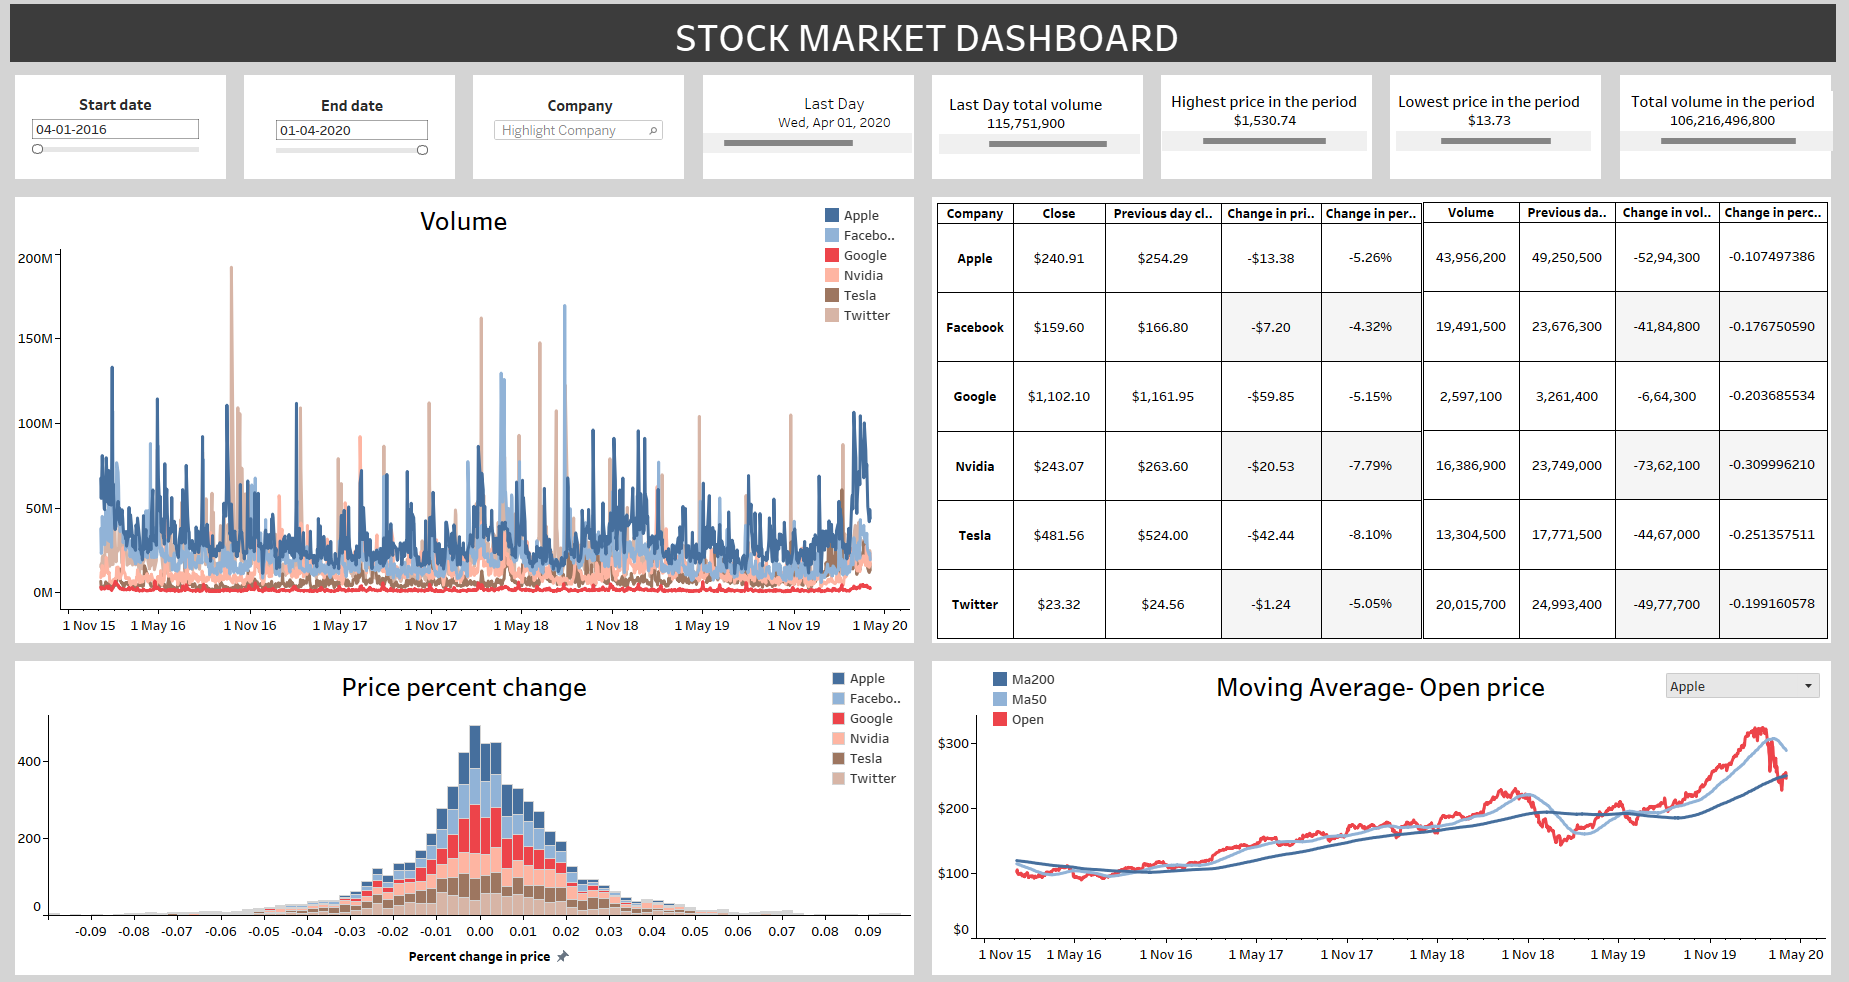

The page's visual inventory and layout, read from the dashboard file:
{"tool":"tableau","page":{"name":"Dashboard 1","canvas":[1850,1000],"ordinal":0},"visuals":[{"type":"blank","box":[8,8,1834,66]},{"type":"worksheet","title":"Title","mark":"Automatic","box":[23,16,1814,76]},{"type":"blank","box":[8,74,229.2,122]},{"type":"blank","box":[237.2,74,229.3,122]},{"type":"blank","box":[466.5,74,229.3,122]},{"type":"blank","box":[695.7,74,229.3,122]},{"type":"blank","box":[925,74,229.2,122]},{"type":"blank","box":[1154.2,74,229.3,122]},{"type":"blank","box":[1383.5,74,229.3,122]},{"type":"blank","box":[1612.7,74,229.3,122]},{"type":"worksheet","title":"Highest price in the period ","mark":"Automatic","box":[1164,99,205,97]},{"type":"worksheet","title":"Lowest price in the period","mark":"Automatic","box":[1398,99,195,87]},{"type":"worksheet","title":"Total volume in the period","mark":"Automatic","box":[1622,99,213,98]},{"type":"worksheet","title":"Last Day","mark":"Automatic","box":[705,101,209,89]},{"type":"parameter","param":"[Parameters].[Parameter 1]","box":[31,102,173,76]},{"type":"worksheet","title":"Last day total volume","mark":"Automatic","box":[941,102,201,95]},{"type":"parameter","param":"[Parameters].[Parameter 2]","box":[275,103,158,76]},{"type":"highlighter","title":"Volume","param":"[federated.145bf9v1kpuh8n13qrpkv1qncen8].[none:Table Name:nk]","box":[493,103,175,76]},{"type":"blank","box":[8,196,917,464]},{"type":"blank","box":[925,196,917,464]},{"type":"worksheet","title":"Volume","mark":"Automatic","rows":["Volume"],"cols":["Date"],"box":[19,207,893,440]},{"type":"worksheet","title":"Detailed Volume Table","mark":"Automatic","rows":["Table Name","Volume","Previous day volume","Change in volume"],"box":[1425,210,405,437]},{"type":"worksheet","title":"Detailed price Table","mark":"Automatic","rows":["Table Name","Close","Previous day close price","Change in price"],"box":[939,211,485,436]},{"type":"legend","title":"Volume","param":"[federated.145bf9v1kpuh8n13qrpkv1qncen8].[none:Table Name:nk]","box":[824,213,83,139]},{"type":"blank","box":[8,660,917,332]},{"type":"blank","box":[925,660,917,332]},{"type":"worksheet","title":"Price percent change","mark":"Automatic","rows":["Percent change in price"],"cols":["Percent change in price (bin)"],"box":[19,673,894,307]},{"type":"worksheet","title":"Moving Average- Open price","mark":"Automatic","cols":["Date"],"box":[937,673,891,303]},{"type":"legend","title":"Price percent change","param":"[federated.145bf9v1kpuh8n13qrpkv1qncen8].[none:Table Name:nk]","box":[830,676,79,125]},{"type":"legend","title":"Moving Average- Open price","param":"[federated.145bf9v1kpuh8n13qrpkv1qncen8].[:Measure Names]","box":[992,677,78,64]},{"type":"filter","title":"Moving Average- Open price","param":"[federated.145bf9v1kpuh8n13qrpkv1qncen8].[none:Table Name:nk]","box":[1665,678,160,41]}]}

Visuals, with their boxes in screenshot pixels (x1, y1, x2, y2), scaled from the page's 1850x1000 canvas onto the 1849x982 screenshot:
blank: <box>8,8,1841,73</box>
"Title" worksheet: <box>23,16,1836,90</box>
blank: <box>8,73,237,192</box>
blank: <box>237,73,466,192</box>
blank: <box>466,73,695,192</box>
blank: <box>695,73,924,192</box>
blank: <box>924,73,1154,192</box>
blank: <box>1154,73,1383,192</box>
blank: <box>1383,73,1612,192</box>
blank: <box>1612,73,1841,192</box>
"Highest price in the period " worksheet: <box>1163,97,1368,192</box>
"Lowest price in the period" worksheet: <box>1397,97,1592,183</box>
"Total volume in the period" worksheet: <box>1621,97,1834,193</box>
"Last Day" worksheet: <box>705,99,914,187</box>
parameter: <box>31,100,204,175</box>
"Last day total volume" worksheet: <box>940,100,1141,193</box>
parameter: <box>275,101,433,176</box>
"Volume" highlighter: <box>493,101,668,176</box>
blank: <box>8,192,924,648</box>
blank: <box>924,192,1841,648</box>
"Volume" worksheet: <box>19,203,912,635</box>
"Detailed Volume Table" worksheet: <box>1424,206,1829,635</box>
"Detailed price Table" worksheet: <box>938,207,1423,635</box>
"Volume" legend: <box>824,209,907,346</box>
blank: <box>8,648,924,974</box>
blank: <box>924,648,1841,974</box>
"Price percent change" worksheet: <box>19,661,913,962</box>
"Moving Average- Open price" worksheet: <box>936,661,1827,958</box>
"Price percent change" legend: <box>830,664,909,787</box>
"Moving Average- Open price" legend: <box>991,665,1069,728</box>
"Moving Average- Open price" filter: <box>1664,666,1824,706</box>
